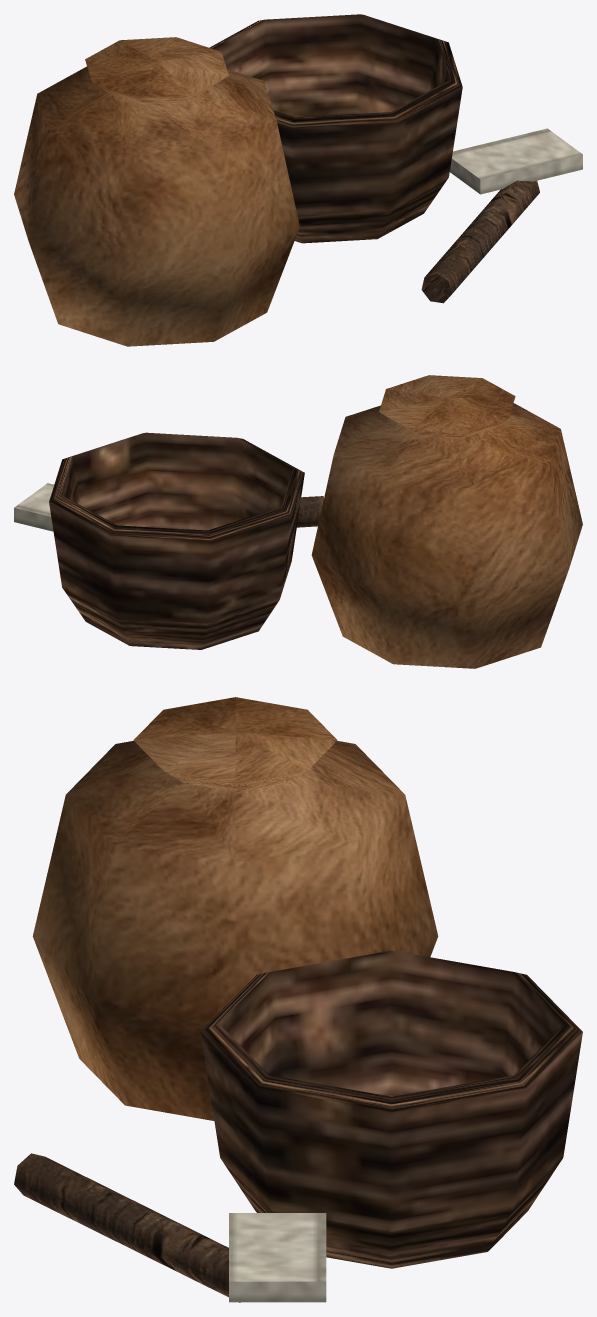
File: periodHarvest.glb
3 renders of one model, top to bottom at view 1: azimuth 30°, elevation 25°; view 2: azimuth 150°, elevation 25°; view 3: azimuth 270°, elevation 25°, orthographic. The views are drawn at different scales.
Visible parts, largest first — view 1: part_0, part_1, part_3, part_2; view 2: part_0, part_1, part_3, part_2; view 3: part_0, part_1, part_2, part_3.
Part boxes in pixels (x1,y1,x2,y2): part_0: (14,37,299,346); part_1: (209,14,462,243); part_3: (450,128,582,194); part_2: (421,180,539,303); part_0: (311,375,582,668); part_1: (49,432,304,649); part_3: (14,483,53,531); part_2: (297,496,323,527); part_0: (32,697,438,1120); part_1: (200,950,582,1268); part_2: (14,1153,240,1302); part_3: (229,1213,326,1302).
Size of the model in its own units: 0.7262 by 0.3 by 0.4735.
Materials: 4 (4 with a texture image).
